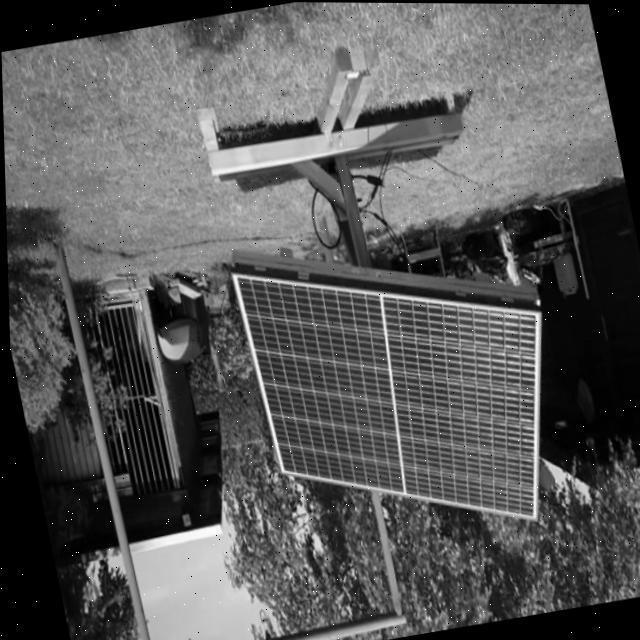Normal Solar Panel: (230, 222, 578, 560)
